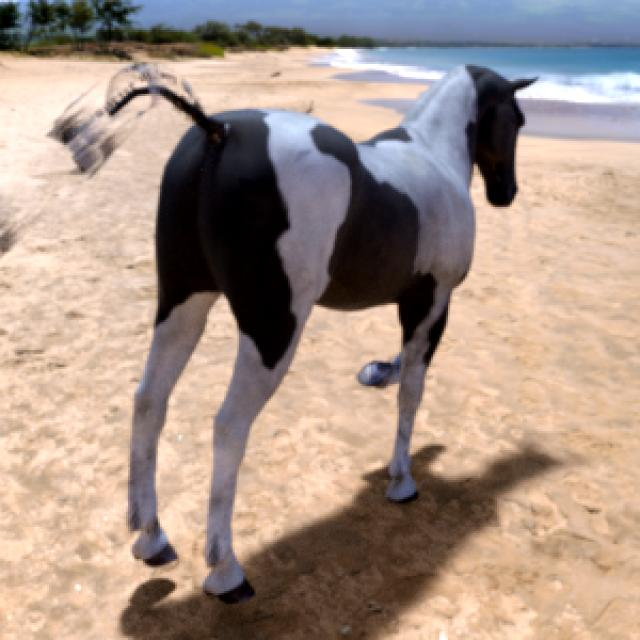horse: (50, 64, 533, 602)
